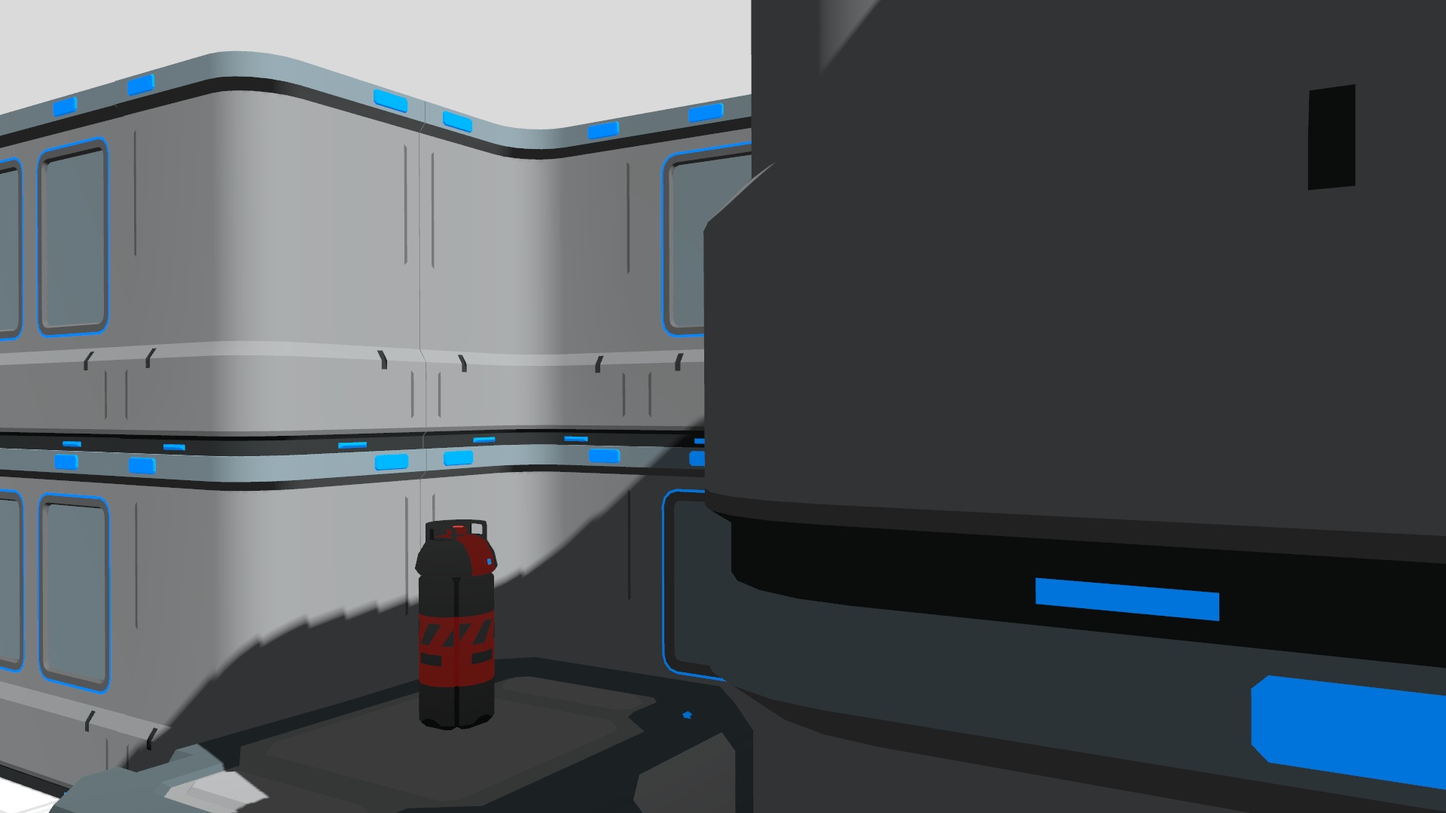red_barrel: (412, 512, 498, 735)
